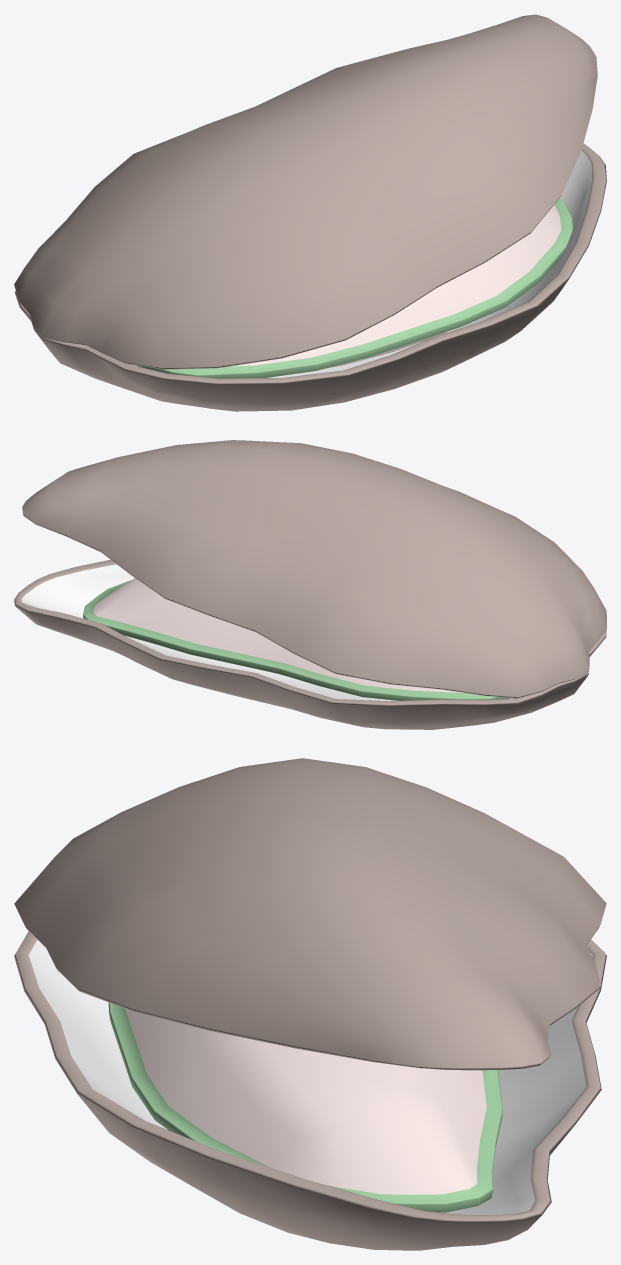
Rendered from Oysters_Empty_1.fbx.
3 renders of one model, top to bottom at view 1: azimuth 30°, elevation 25°; view 2: azimuth 150°, elevation 25°; view 3: azimuth 270°, elevation 25°, orthographic. The views are drawn at different scales.
Visible parts, largest first — view 1: Oysters_Empty_1; view 2: Oysters_Empty_1; view 3: Oysters_Empty_1.
Boxes of the visible parts, <box> form: Oysters_Empty_1: <box>14,14,606,411</box>; Oysters_Empty_1: <box>14,440,606,729</box>; Oysters_Empty_1: <box>14,758,606,1250</box>.
Bounding box in the file's own units: 8.48 × 3.77 × 5.43.
